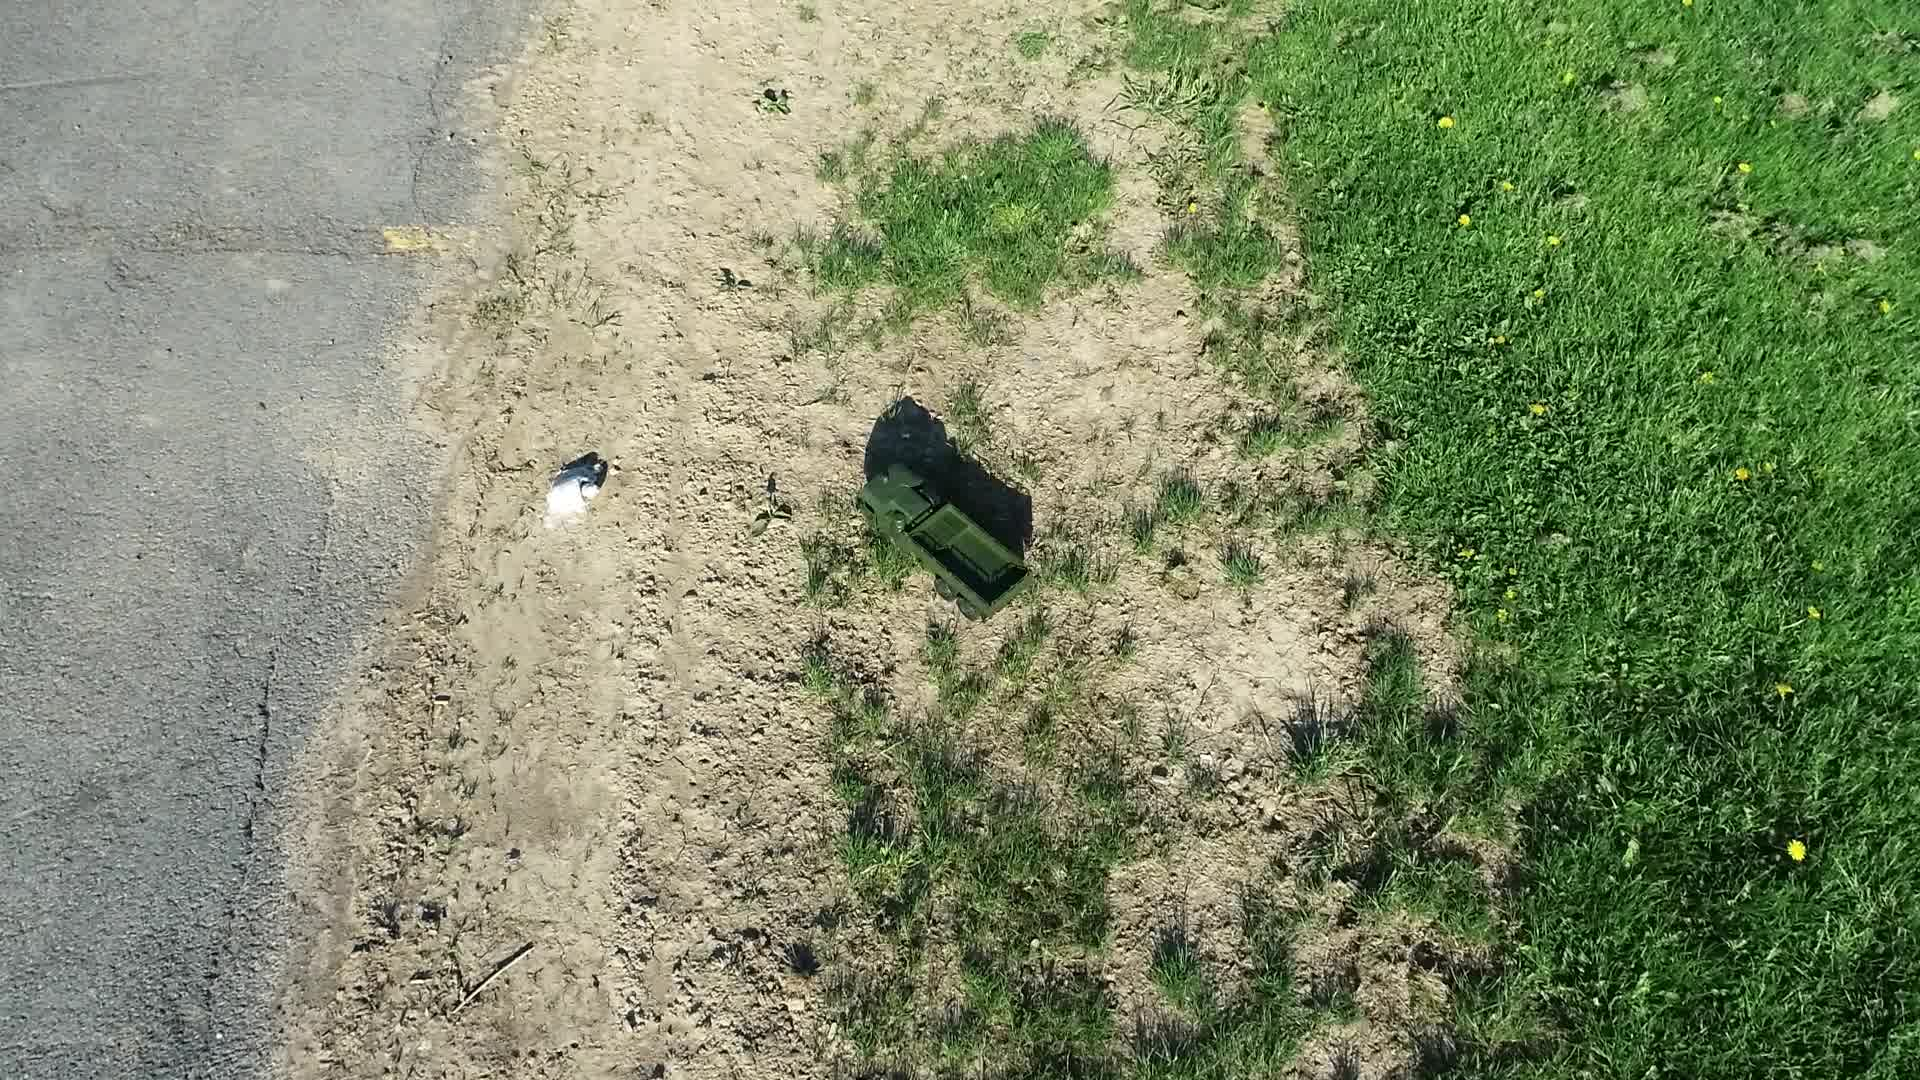transporter9: (836, 443, 1048, 636)
